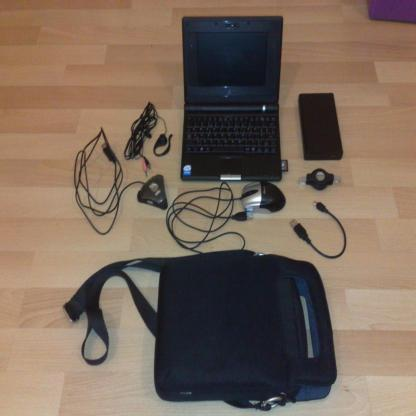board: (175, 19, 286, 190)
